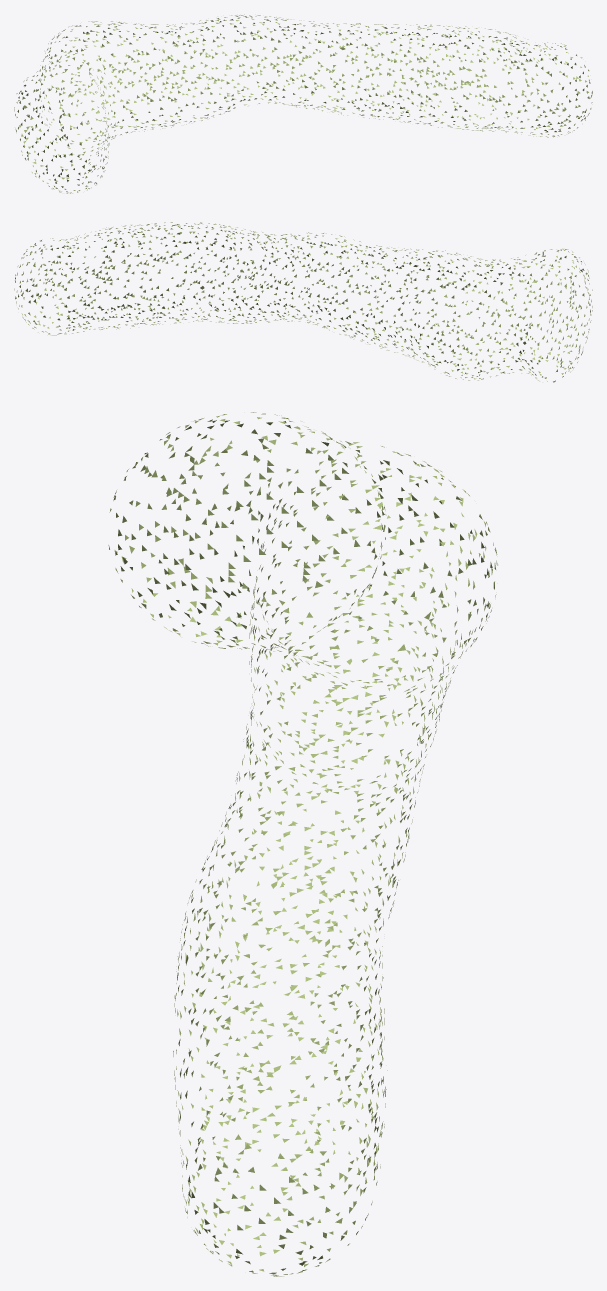
The model's file is morph_011.glb.
The picture shows the model from 3 angles, top to bottom: view 1: azimuth 30°, elevation 25°; view 2: azimuth 150°, elevation 25°; view 3: azimuth 270°, elevation 25°; orthographic projection. The views are drawn at different scales.
Size of the model in its own units: 124 by 41.98 by 38.51.
